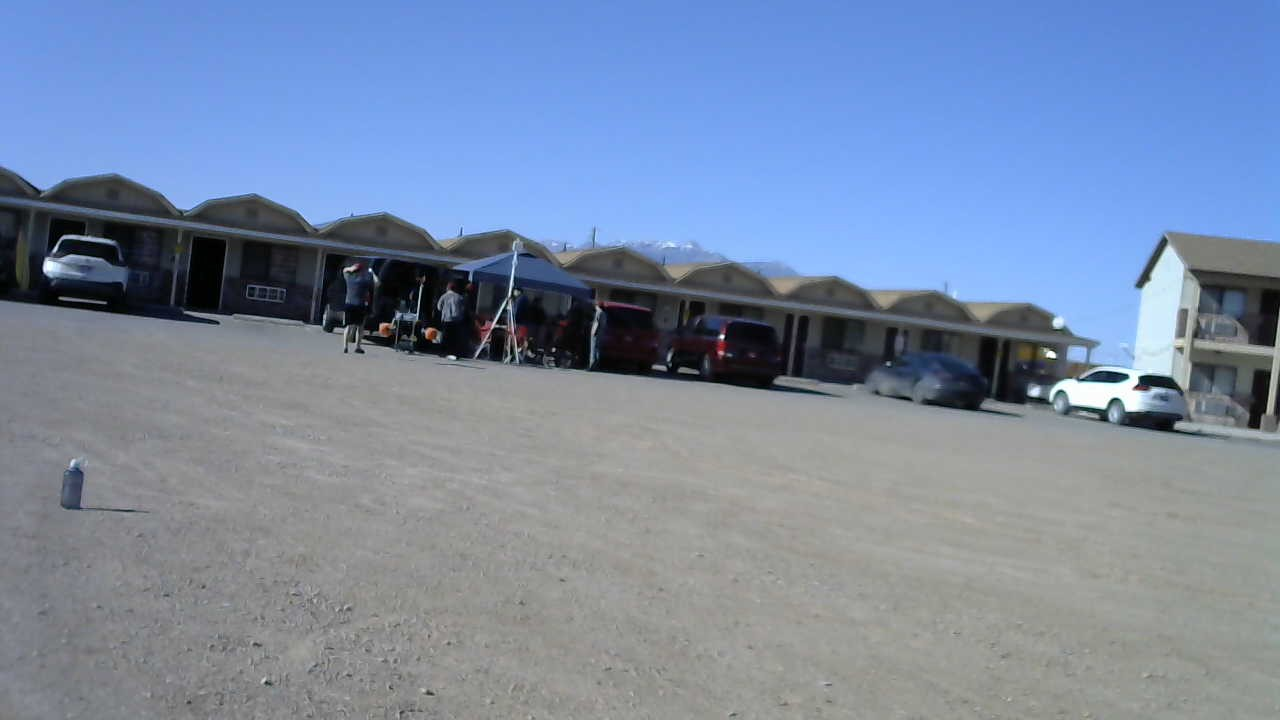bottle: (50, 452, 92, 513)
